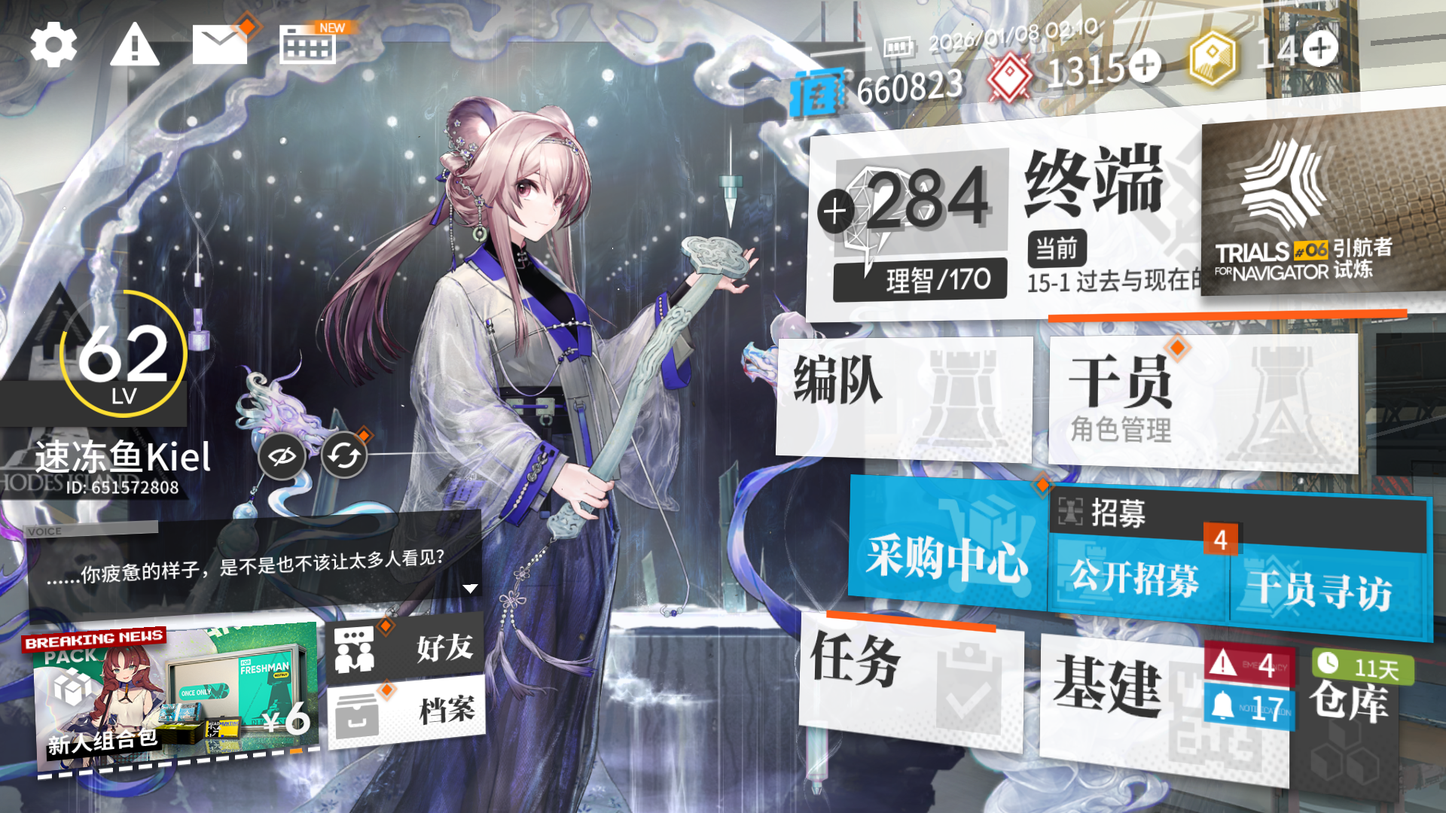home_button: (1018, 149, 1179, 239)
infrastructure_button: (1042, 641, 1289, 785)
